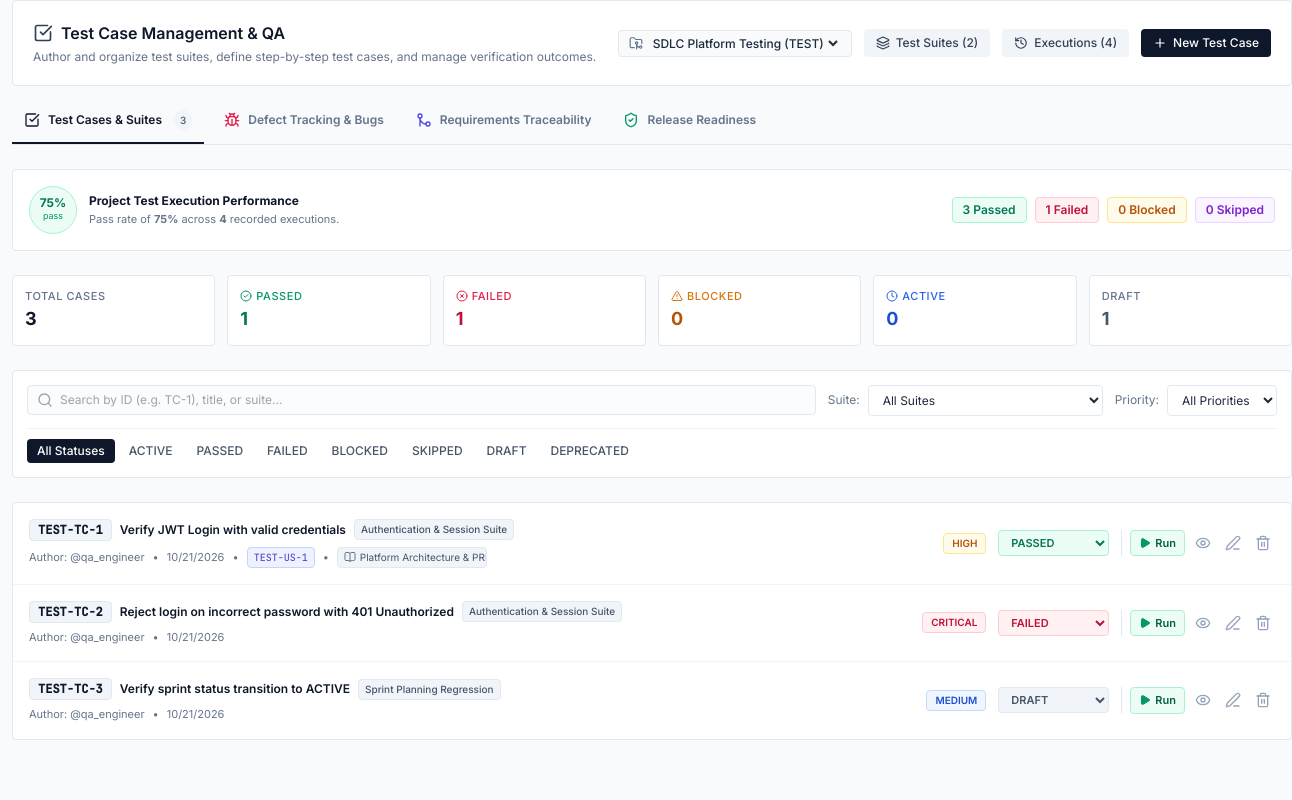
it: Phase 5: Test Case Management Components › switches to Defect Tracking tab and renders defect metrics and list
Expected: the text "TEST-TC-1" is shown, [29,518,112,540]
Note: Switch to Defect Tracking tab
Click the button "Defect Tracking & Bugs".
click(304, 127)  # box [212,112,396,142]
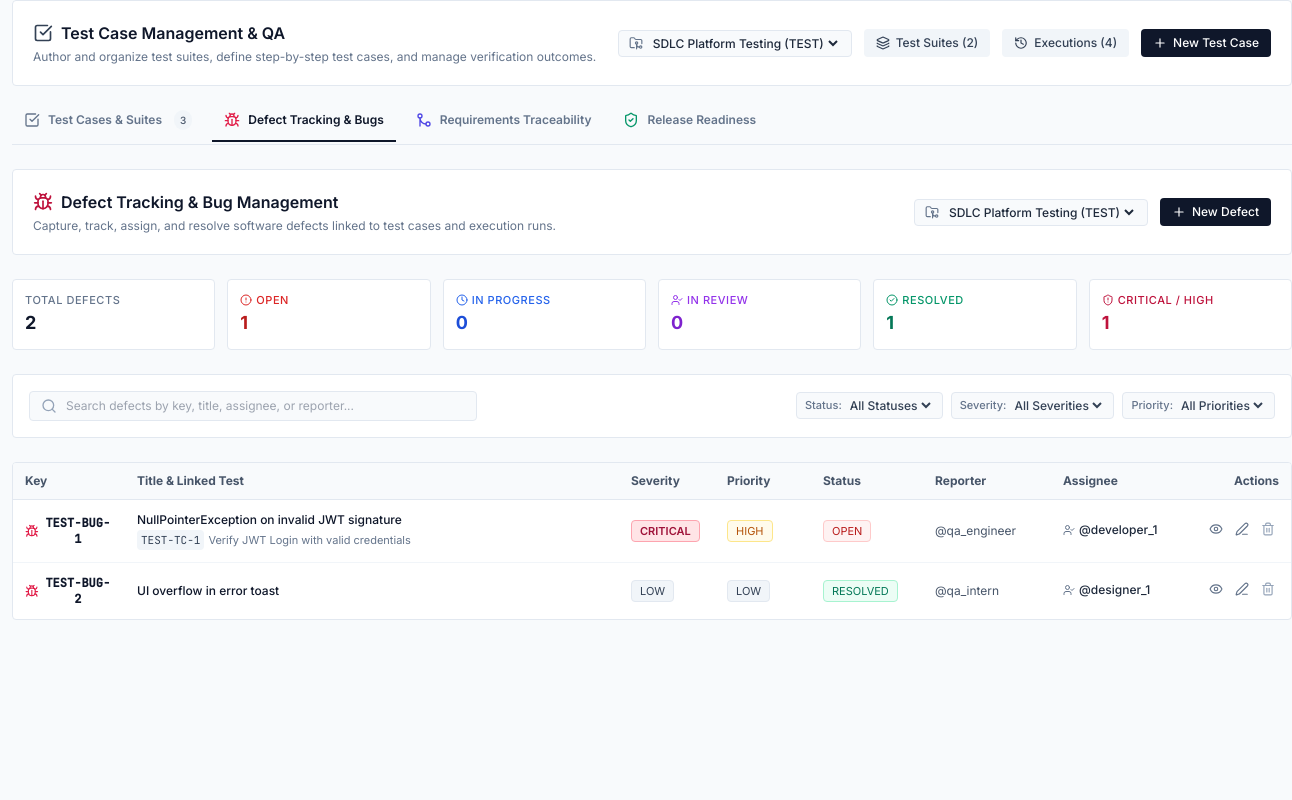
Expected: the heading "Defect Tracking & Bug Management" is shown, [61,190,338,214]
Expected: the text "TEST-BUG-1" is shown, [43,514,113,546]
Expected: the text "NullPointerException on invalid JWT signature" is shown, [137,512,402,526]
